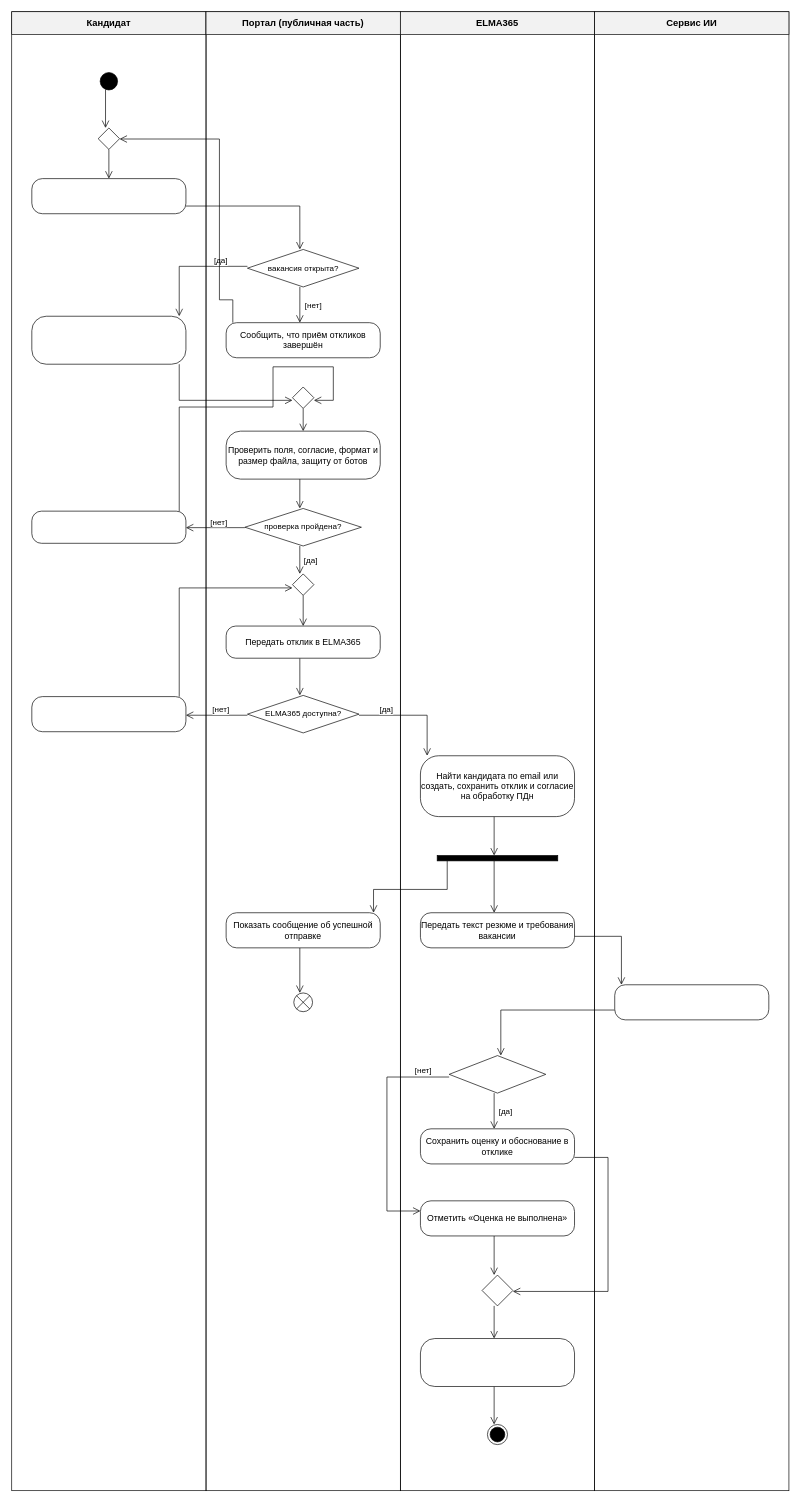
This 801x1503 diagram has some shape labels left out. Each missing label, with the centre of its shape:
Исправить отмеченные поля: point 108,526
ответ за 60 с?: point 497,1074
Открыть «Вакансии», выбрать вакансию, «Откликнуться»: point 108,196
Оценить соответствие резюме вакансии: point 691,1002
Получить сообщение об ошибке, повторить отправку: point 108,714
Поставить задачу «Рассмотреть отклик», отправить письмо кандидату: point 497,1362
Указать ФИО и контакты, приложить резюме, дать согласие: point 108,340
